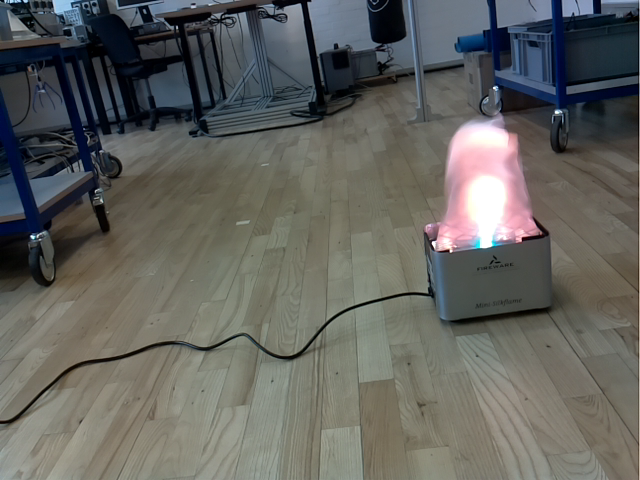fire: (431, 112, 545, 252)
